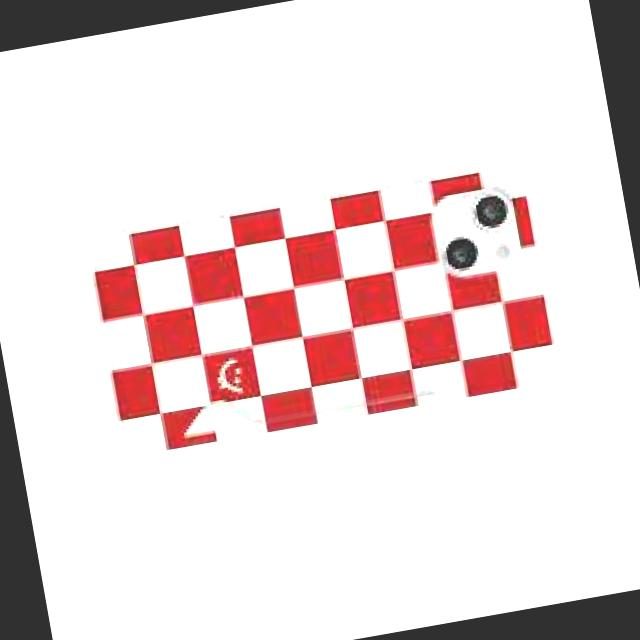lens_back: (439, 231, 484, 277), (470, 188, 514, 232)
phone: (85, 156, 568, 467)
